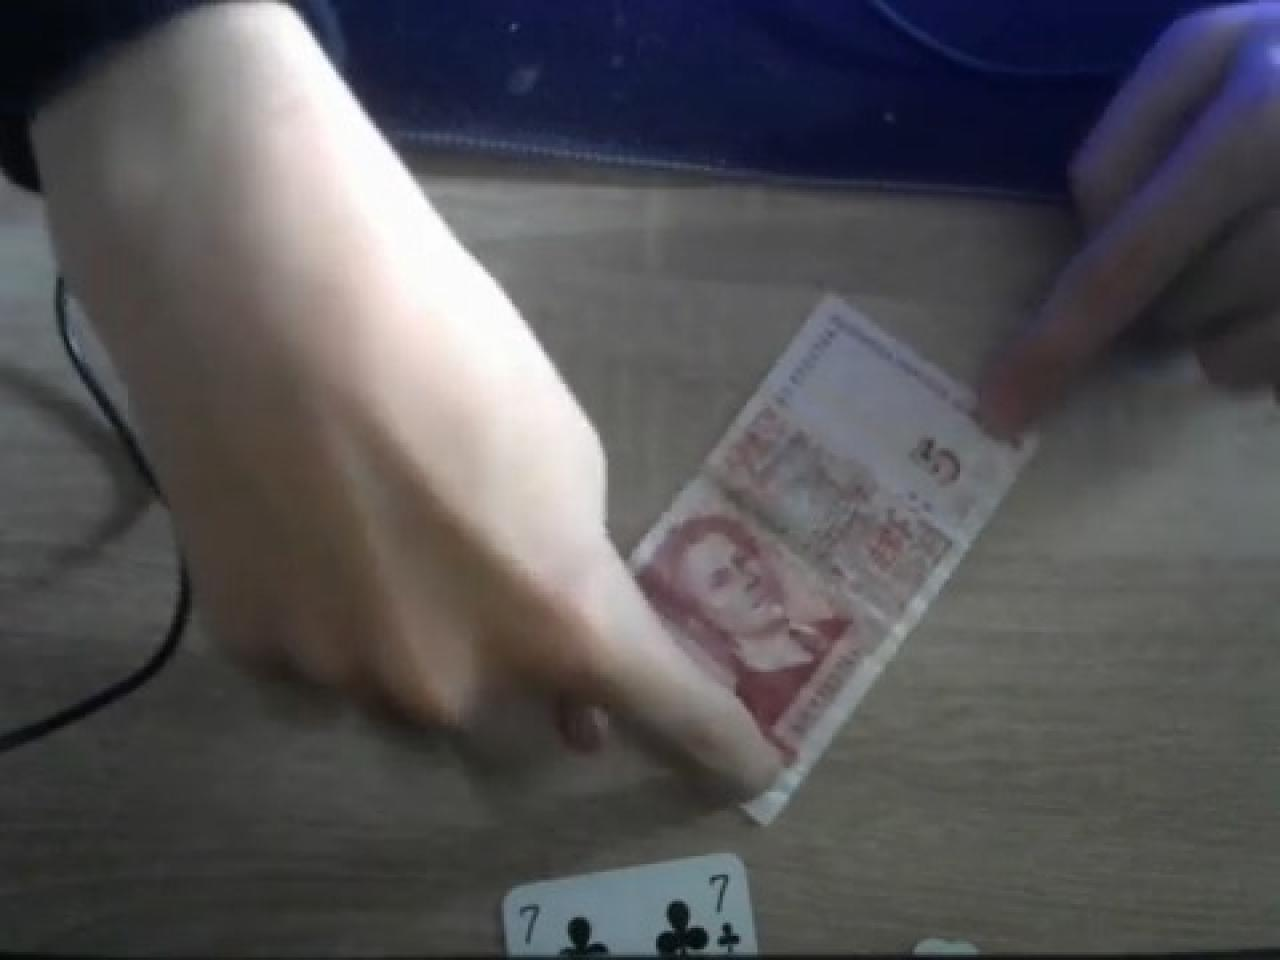5leva: (629, 298, 1040, 837)
